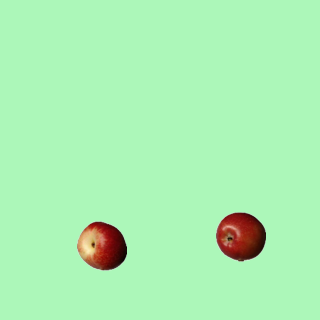Apple Braeburn: (215, 211, 265, 261)
Nectarine: (76, 220, 126, 270)
